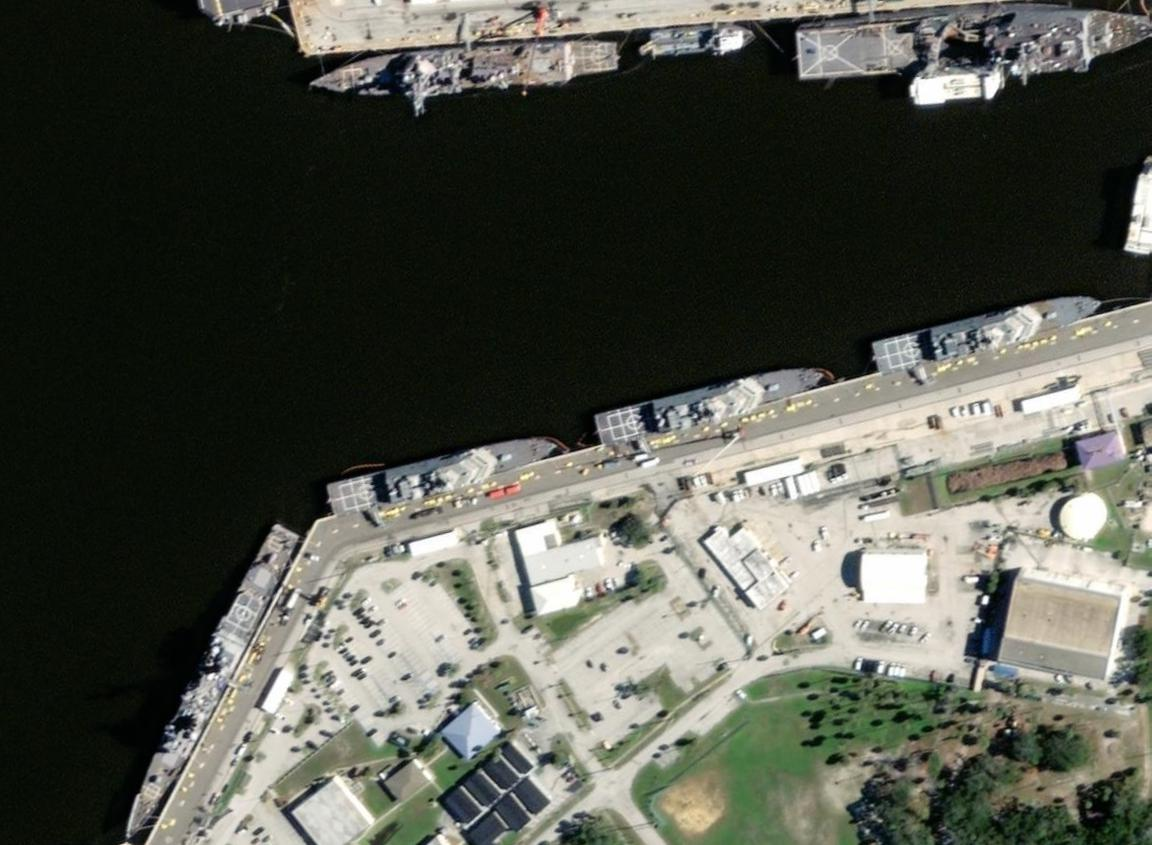destroyer: (123, 520, 302, 845)
fregate: (302, 28, 626, 109)
patrol: (870, 288, 1110, 383), (591, 364, 836, 457), (324, 436, 562, 521)
